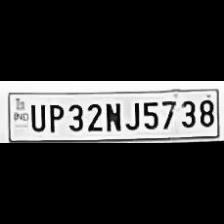2: (84, 100, 102, 132)
3: (64, 100, 84, 132), (178, 97, 196, 129)
5: (139, 98, 159, 130)
7: (158, 97, 176, 130)
8: (197, 94, 215, 128)
J: (122, 99, 140, 131)
N: (102, 100, 122, 132)
P: (45, 102, 63, 132)
U: (27, 102, 45, 132)
